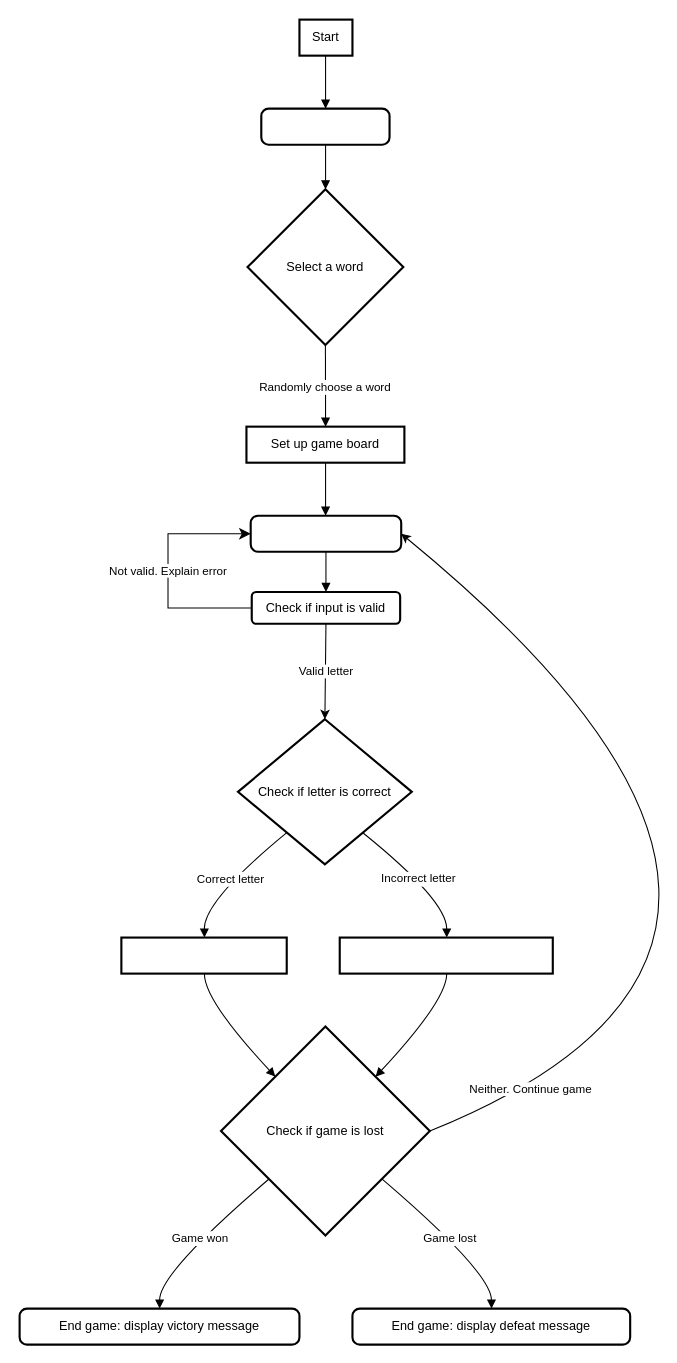
The diagram is 677 pixels wide and 1363 high, and some of its shapes have lost their labels. The centre of each missing label's shape, as x and y in pixels:
Ask for user input: point (325, 533)
Initialize game: point (325, 126)
Reduce remaining guesses Draw more hang man: point (445, 955)
Update game board: point (203, 955)
